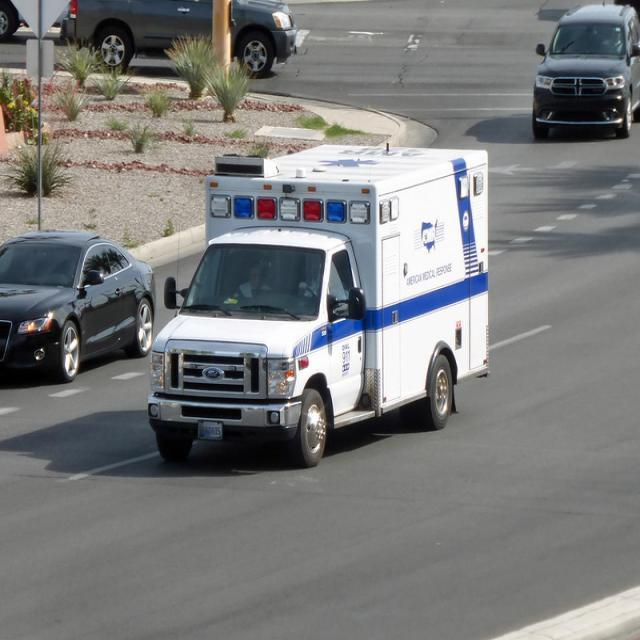emergency: (150, 164, 382, 472)
